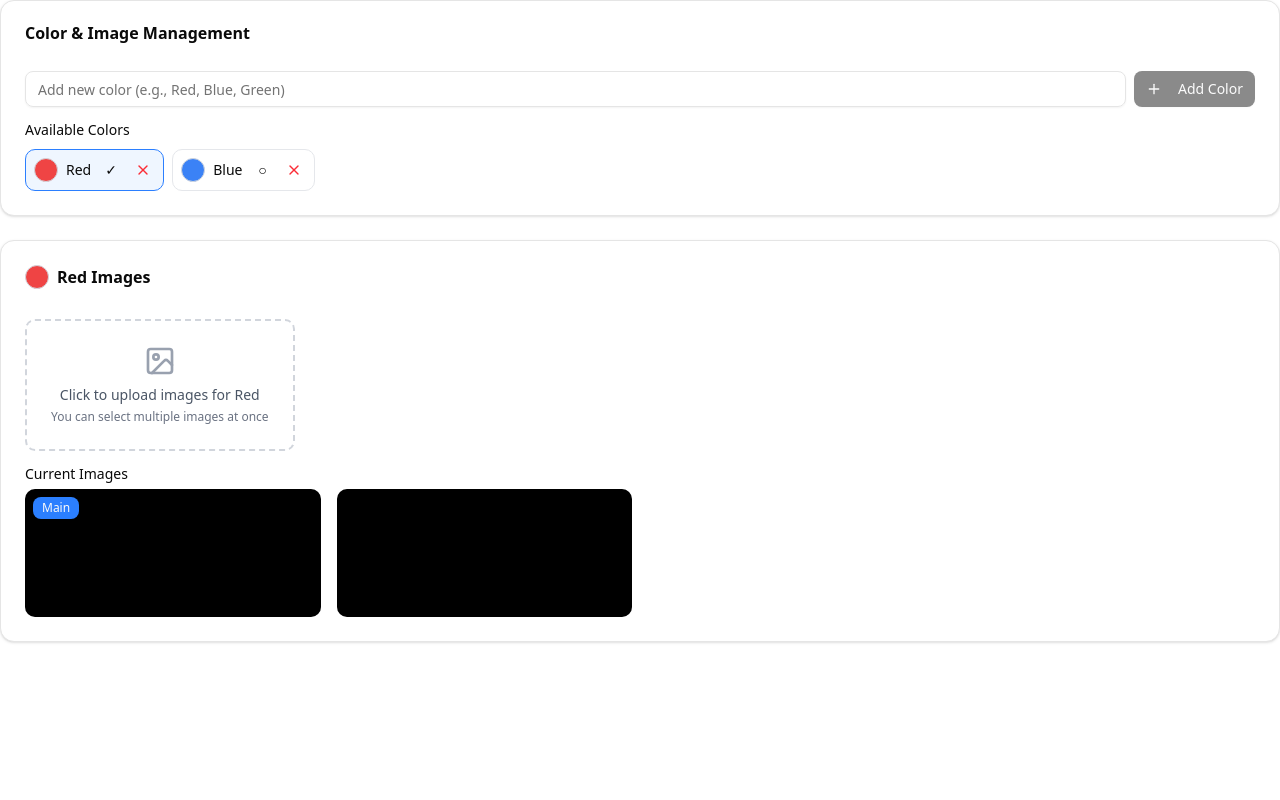
Test: ProductColorImageManager › should add new color when input is filled and button is clicked
The width and height of the screenshot is (1280, 800).
Type "Green" into the field with placeholder "Add new color (e.g., Red, Blue, Green)" at (576, 89), box [25,71,1126,107]
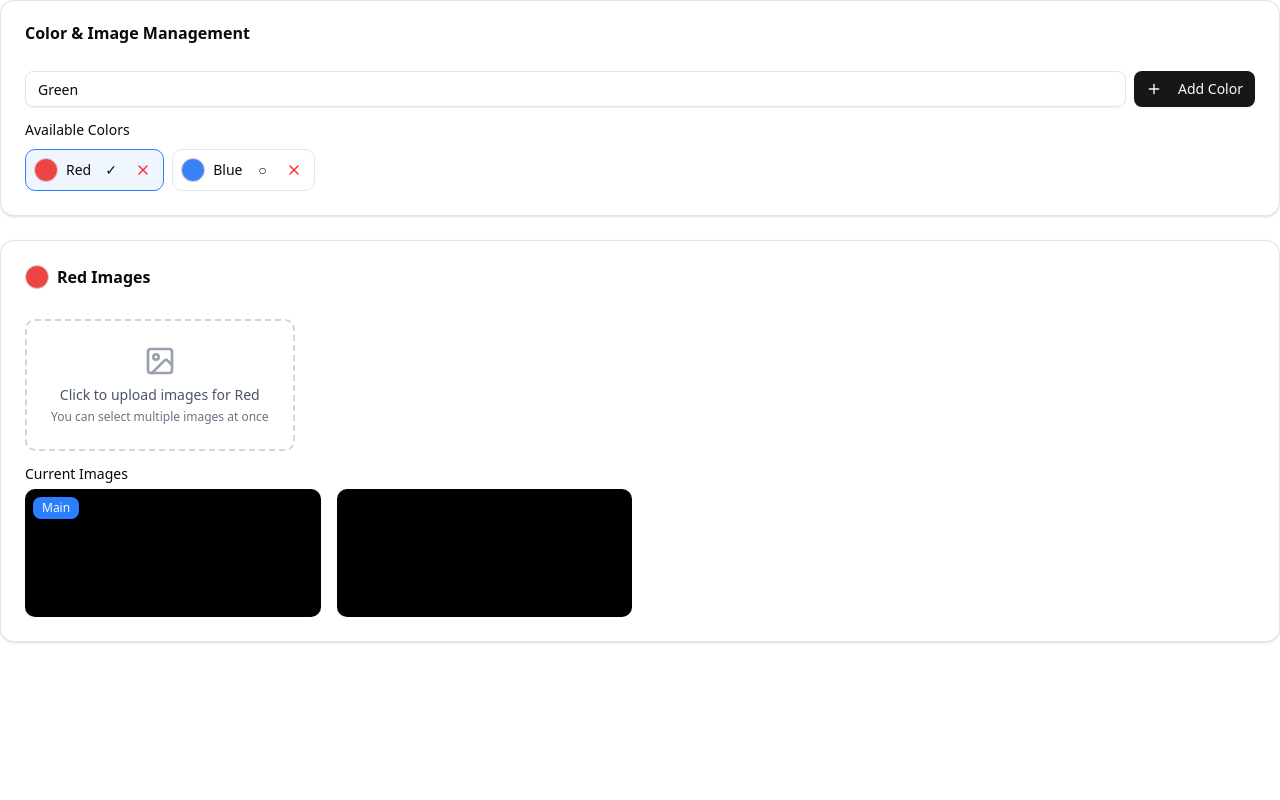
Click the button "Add Color" at (1194, 89), box [1134,71,1255,107]
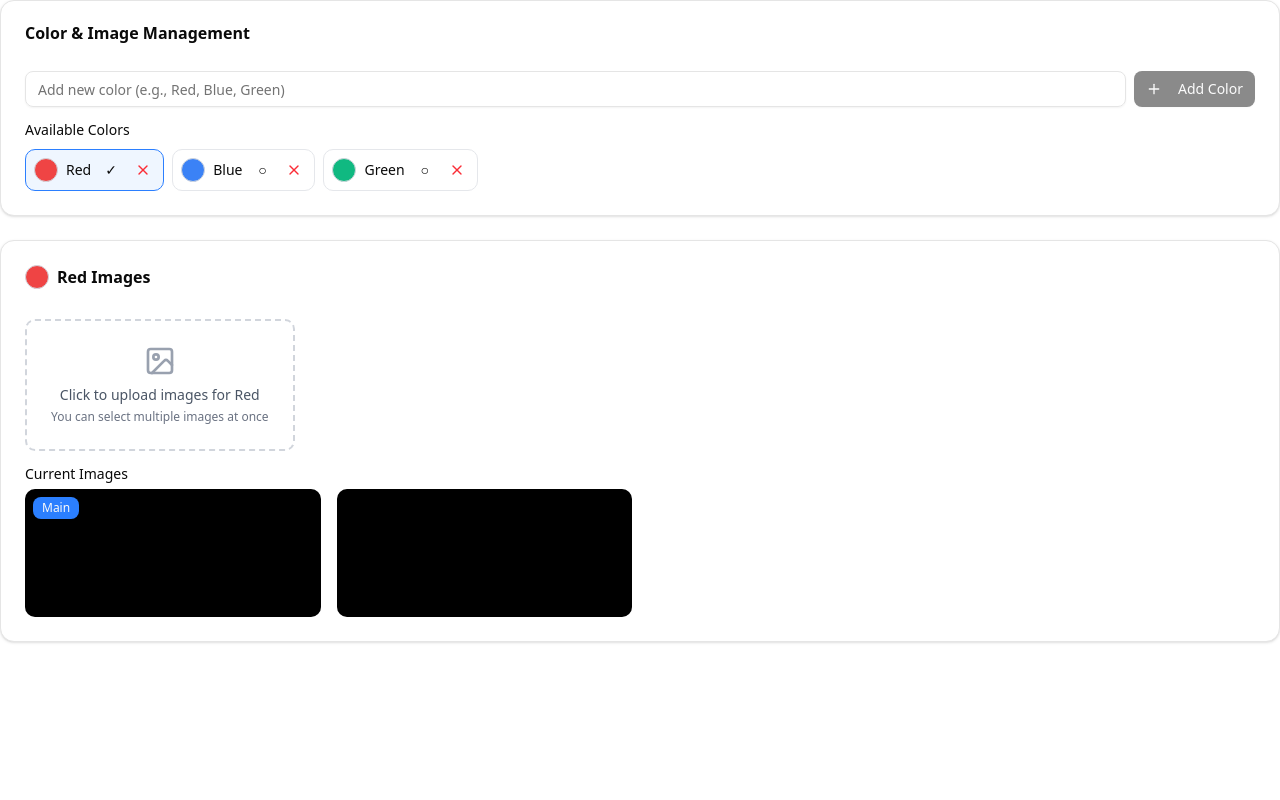
Expected: the text "Green" is shown, [364,160,405,180]
